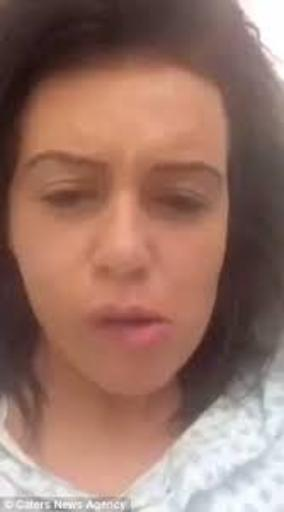left_eye: (150, 187, 215, 217)
left_lip_corner: (154, 306, 176, 336)
right_eye: (42, 186, 91, 216)
right_lip_corner: (89, 310, 114, 330)
